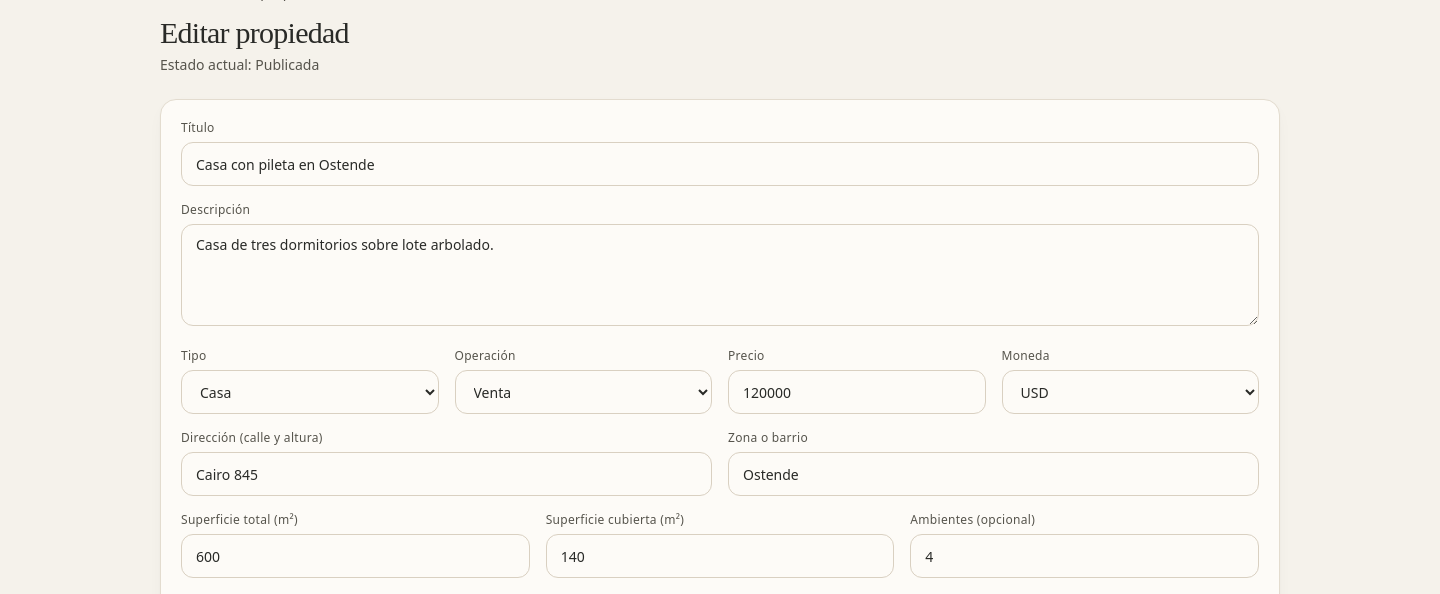
Test case: formulario de propiedad › guardar la edicion envia los cambios y avisa que se guardaron
This screenshot has width=1440, height=594.
Replace the text in the field labelled "Precio" with "99000": (857, 392) [728,370,986,414]
(page scrolled)
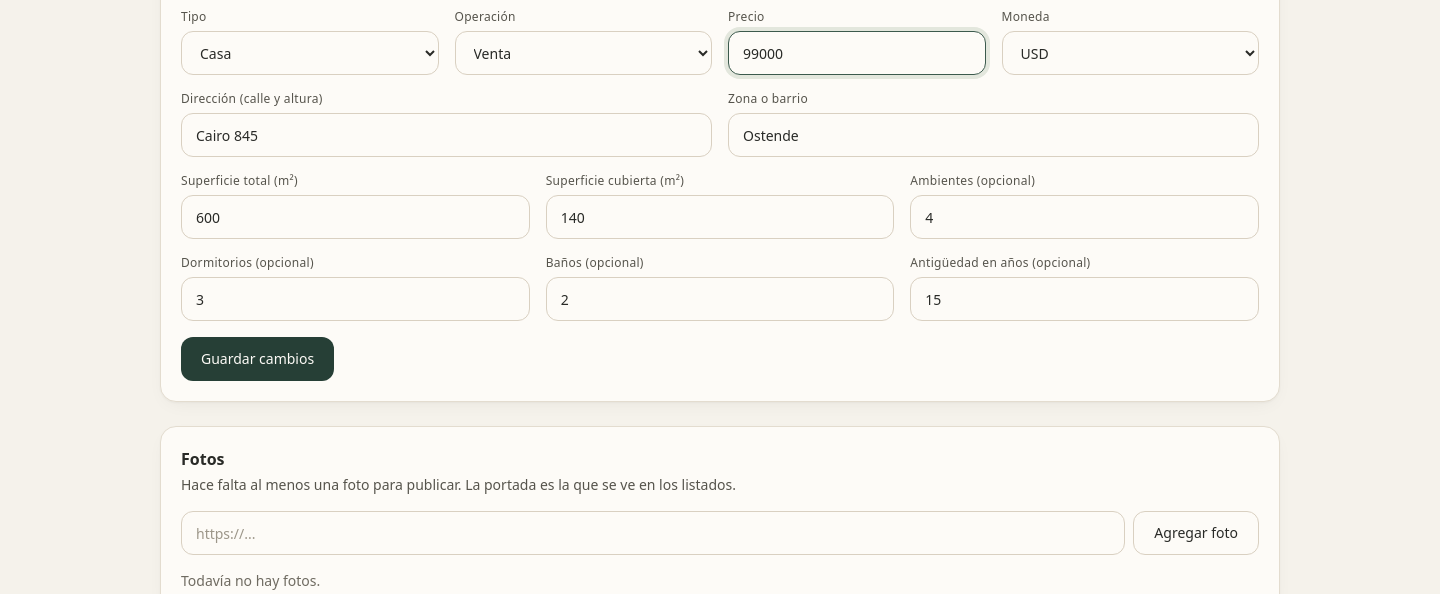
Click the button "Guardar cambios": (258, 359) [181,337,334,381]
(page scrolled)
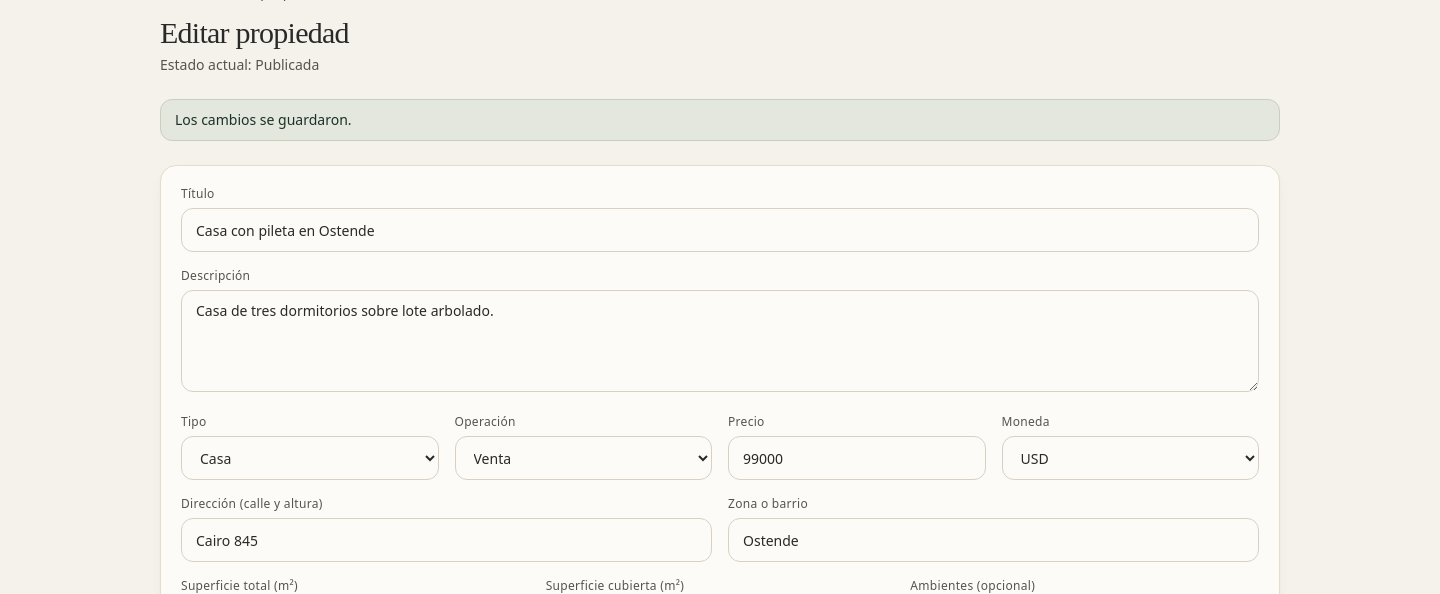
Now the message reads "Los cambios se guardaron.", box [175,110,352,129]
